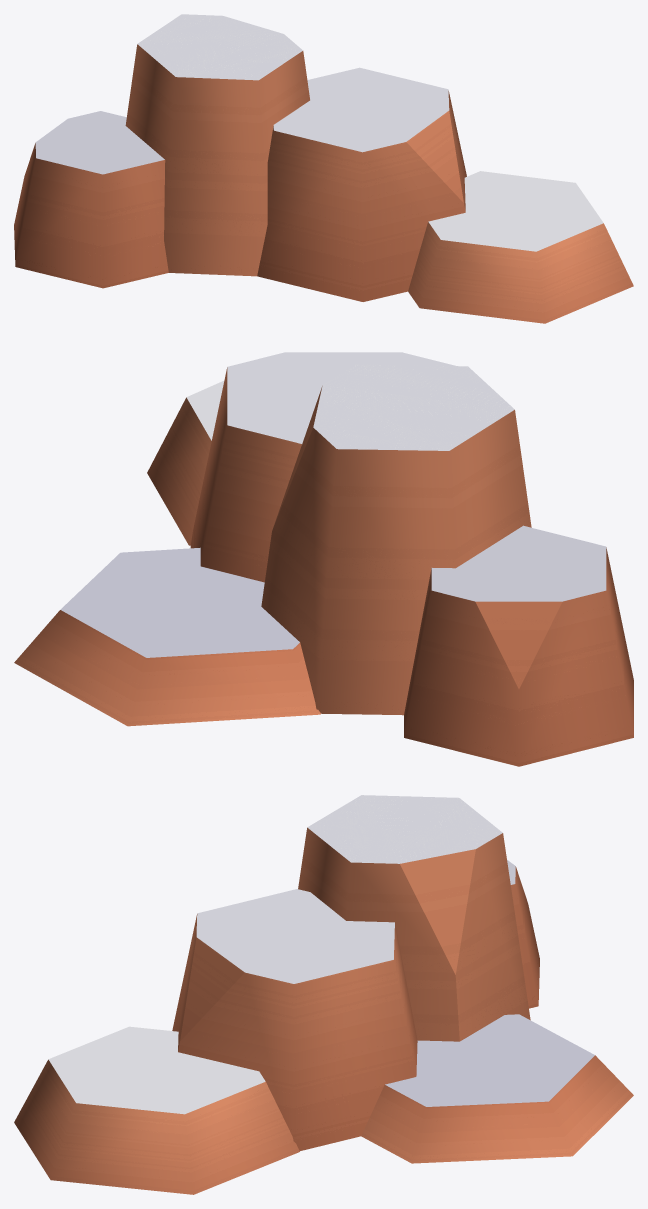
File: tower-defense-kit--snow-detail-dirt.glb
3 renders of one model, top to bottom at view 1: azimuth 30°, elevation 25°; view 2: azimuth 150°, elevation 25°; view 3: azimuth 270°, elevation 25°, orthographic. The views are drawn at different scales.
Visible parts, largest first — view 1: snow-detail-dirt; view 2: snow-detail-dirt; view 3: snow-detail-dirt.
Part boxes in pixels (left/top/right/bottom): snow-detail-dirt: left=14, top=14, right=633, bottom=323; snow-detail-dirt: left=14, top=352, right=633, bottom=766; snow-detail-dirt: left=14, top=795, right=633, bottom=1194.
Bounding box in the file's own units: 0.7028 × 0.2653 × 0.712.
Materials: 1 (1 with a texture image).
